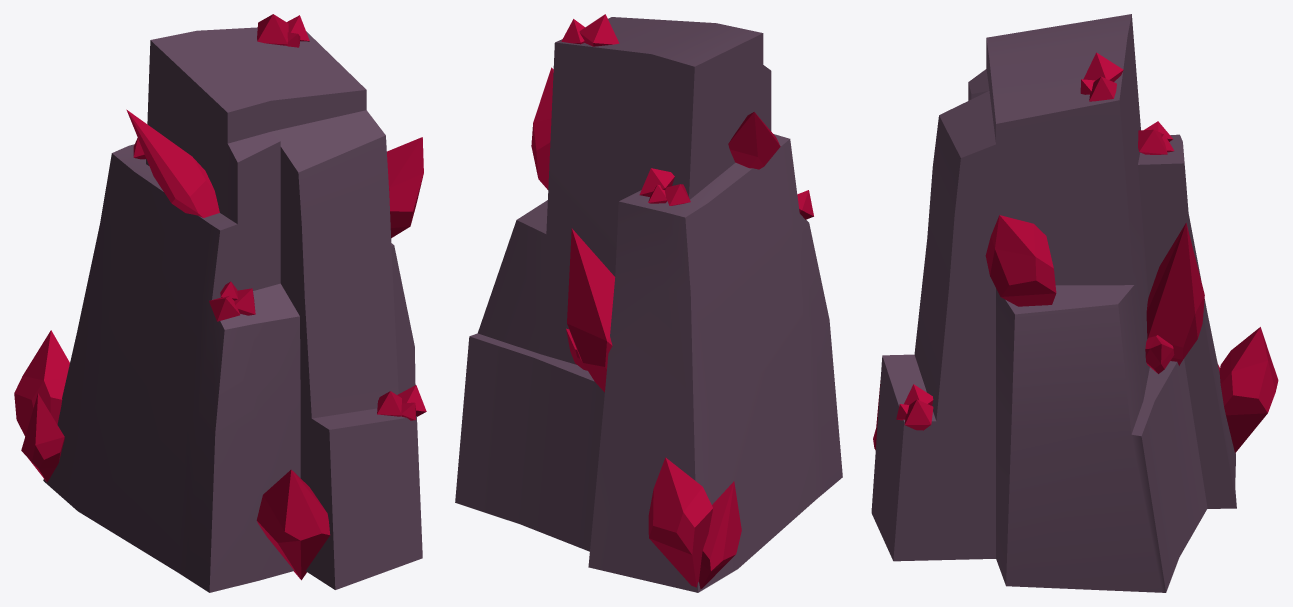
File: Minerai02.fbx
The picture shows the model from 3 angles, left to right: view 1: azimuth 30°, elevation 25°; view 2: azimuth 150°, elevation 25°; view 3: azimuth 270°, elevation 25°; orthographic projection.
Parts seen in each view (by area): view 1: Minerai02; view 2: Minerai02; view 3: Minerai02.
Part boxes in pixels (x1=…): Minerai02: x1=14, y1=14, x2=426, y2=592; Minerai02: x1=455, y1=14, x2=842, y2=592; Minerai02: x1=871, y1=14, x2=1278, y2=592.
Size of the model in its own units: 147 by 234 by 172.
